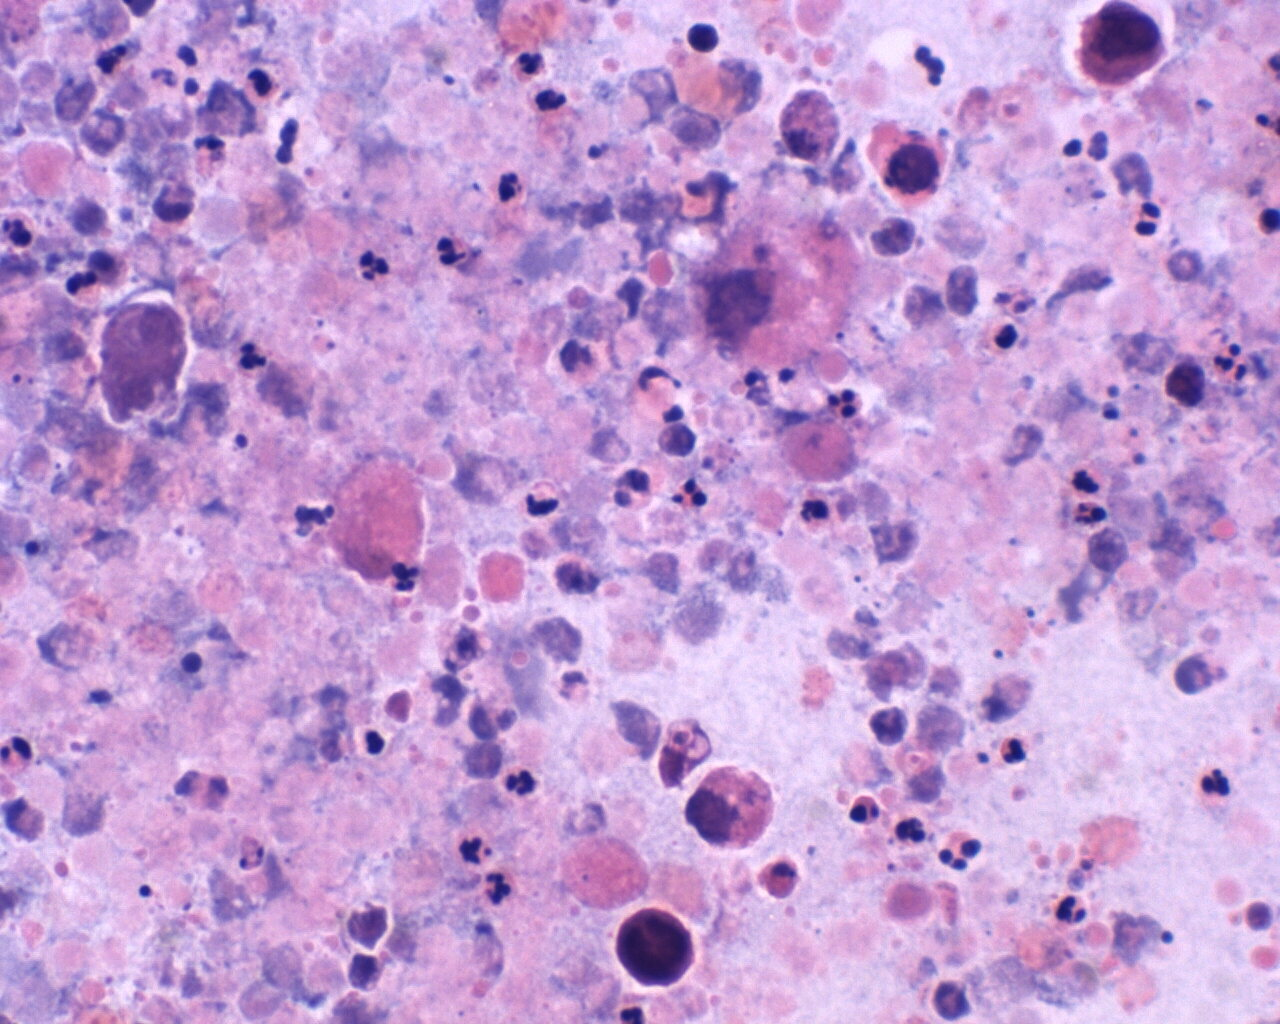ab: (1063, 1, 1173, 93), (615, 908, 698, 993)
neutro: (479, 860, 523, 912), (1190, 763, 1238, 807), (430, 230, 476, 271), (351, 241, 394, 284), (1053, 889, 1095, 931), (994, 730, 1033, 774), (501, 764, 540, 805), (824, 383, 867, 421), (489, 168, 529, 203)
